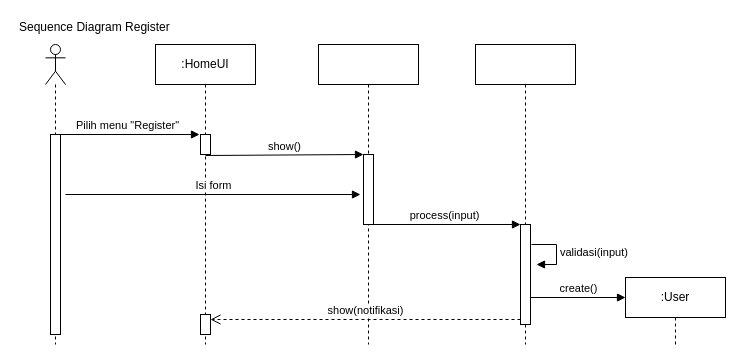
Some shapes in this 743 by 362 pixel diagram are drawn without their labels. The centre of each missing label's shape, as x and y in pixels:
:AuthController: point 525,194
:RegisterFormUI: point 368,194
